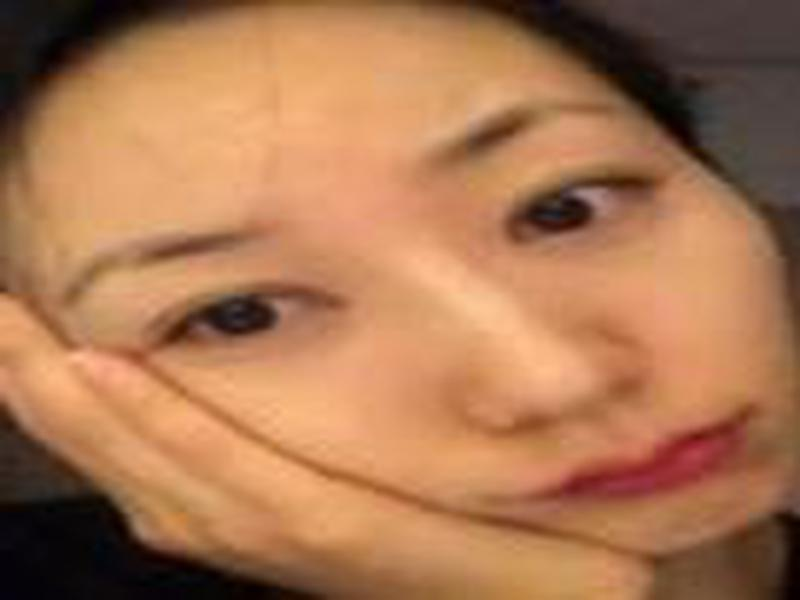without_mask: (38, 67, 782, 563)
